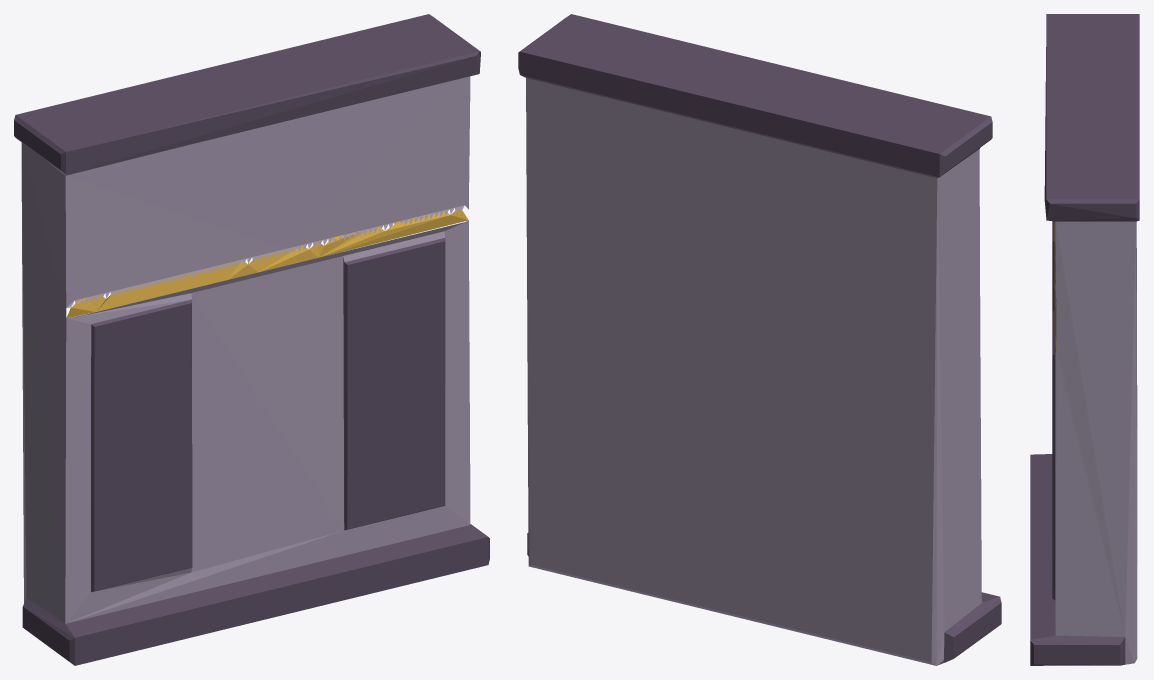
The model's file is marble_wall.glb.
3 views of the same model, side by side, from view 1: azimuth 30°, elevation 25°; view 2: azimuth 150°, elevation 25°; view 3: azimuth 270°, elevation 25° (orthographic). The views are drawn at different scales.
Parts seen in each view (by area): view 1: marble_wall; view 2: marble_wall; view 3: marble_wall.
Part boxes in pixels (x1,y1,x2,y2): marble_wall: (14, 14, 489, 665); marble_wall: (518, 14, 1001, 665); marble_wall: (1030, 14, 1139, 665).
Size of the model in its own units: 3.32 by 3.84 by 0.8133.
